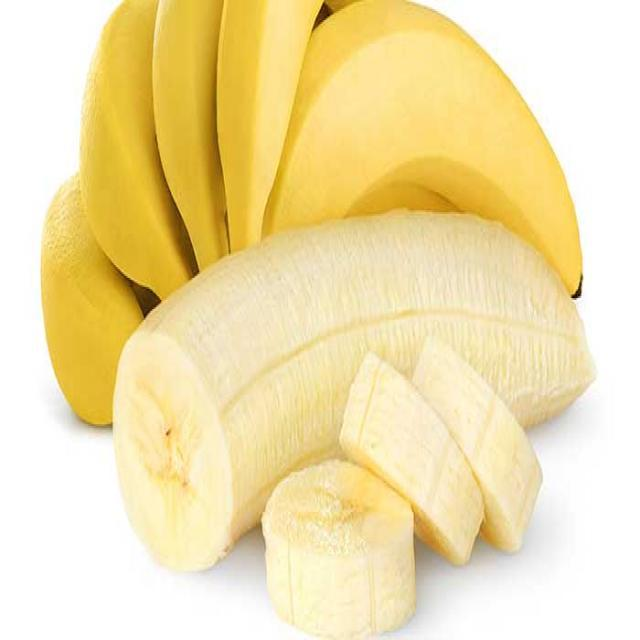banana: (112, 221, 608, 567), (246, 4, 600, 356), (33, 136, 169, 432)
